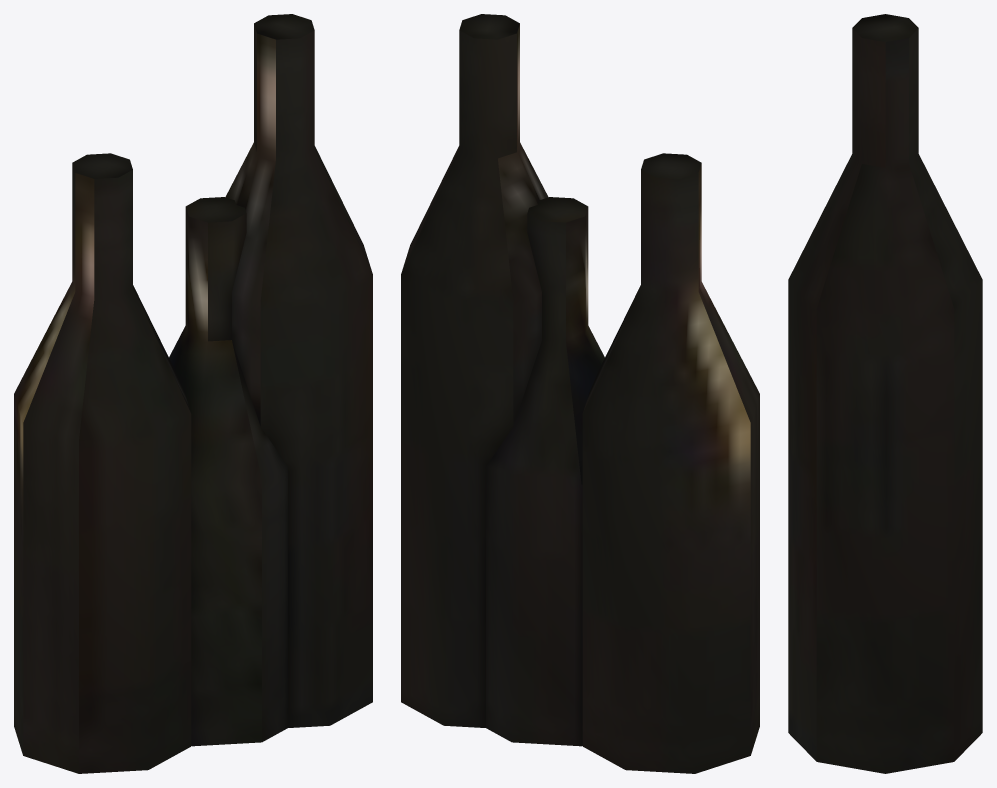
Rendered from cantina_prop_jar_C_medium.glb.
3 renders of one model, left to right at view 1: azimuth 30°, elevation 25°; view 2: azimuth 150°, elevation 25°; view 3: azimuth 270°, elevation 25°, orthographic. The views are drawn at different scales.
Visible parts, largest first — view 1: cantina_prop_jar_C_medium; view 2: cantina_prop_jar_C_medium; view 3: cantina_prop_jar_C_medium.
Boxes of the visible parts, left/top/right/bottom form: cantina_prop_jar_C_medium: left=14, top=14, right=372, bottom=773; cantina_prop_jar_C_medium: left=401, top=14, right=759, bottom=773; cantina_prop_jar_C_medium: left=788, top=14, right=982, bottom=773.
Bounding box in the file's own units: 0.15 × 0.28 × 0.07.
1 material, 1 textured.
